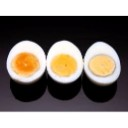begg: (6, 40, 46, 82), (49, 40, 83, 83), (86, 40, 119, 84)
